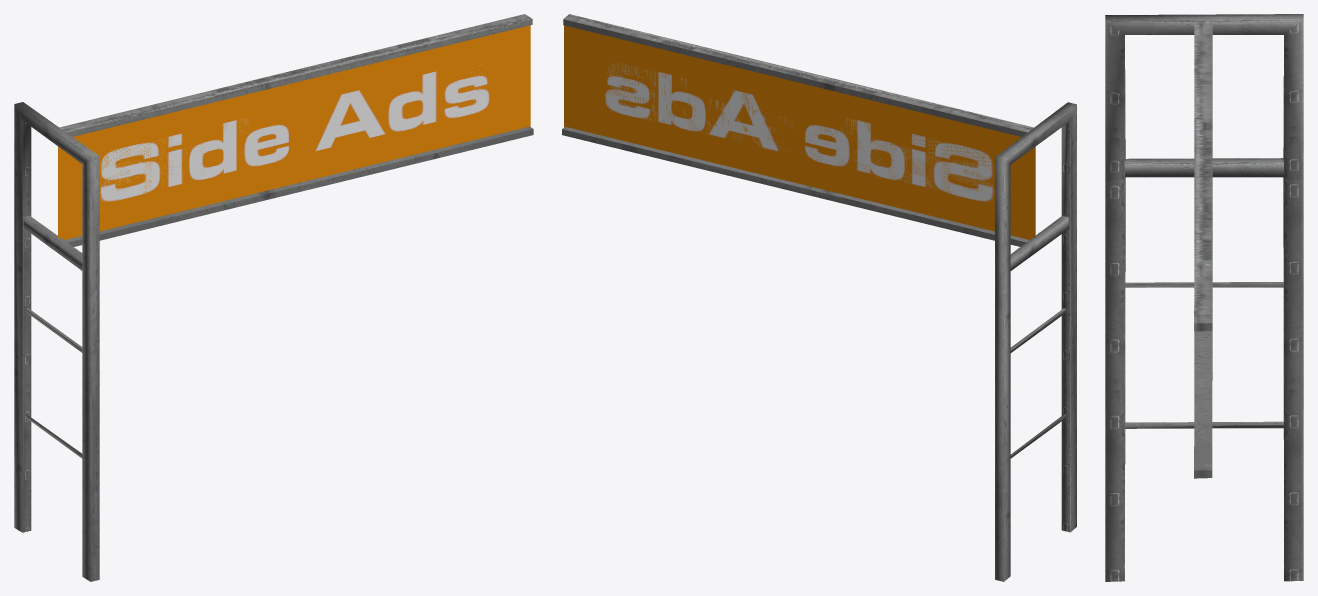
Rendered from SideAds.FBX.
3 renders of one model, left to right at view 1: azimuth 30°, elevation 25°; view 2: azimuth 150°, elevation 25°; view 3: azimuth 270°, elevation 25°, orthographic. The views are drawn at different scales.
Parts seen in each view (by area): view 1: Gantry; view 2: Gantry; view 3: Gantry.
Boxes of the visible parts, x1=… form: Gantry: x1=14, y1=14, x2=533, y2=581; Gantry: x1=562, y1=14, x2=1076, y2=581; Gantry: x1=1105, y1=14, x2=1303, y2=581.
Bounding box in the file's own units: 2.56 × 2.16 × 0.6926.
Materials: 2 (2 with a texture image).
